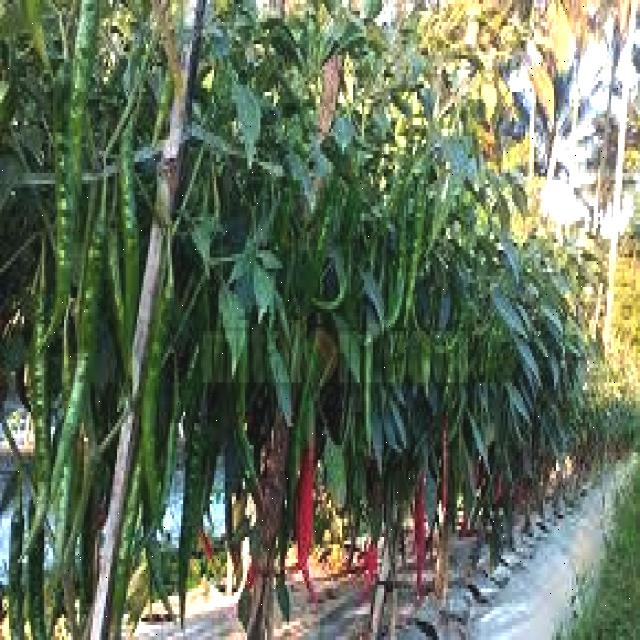healthy: (287, 72, 393, 326)
